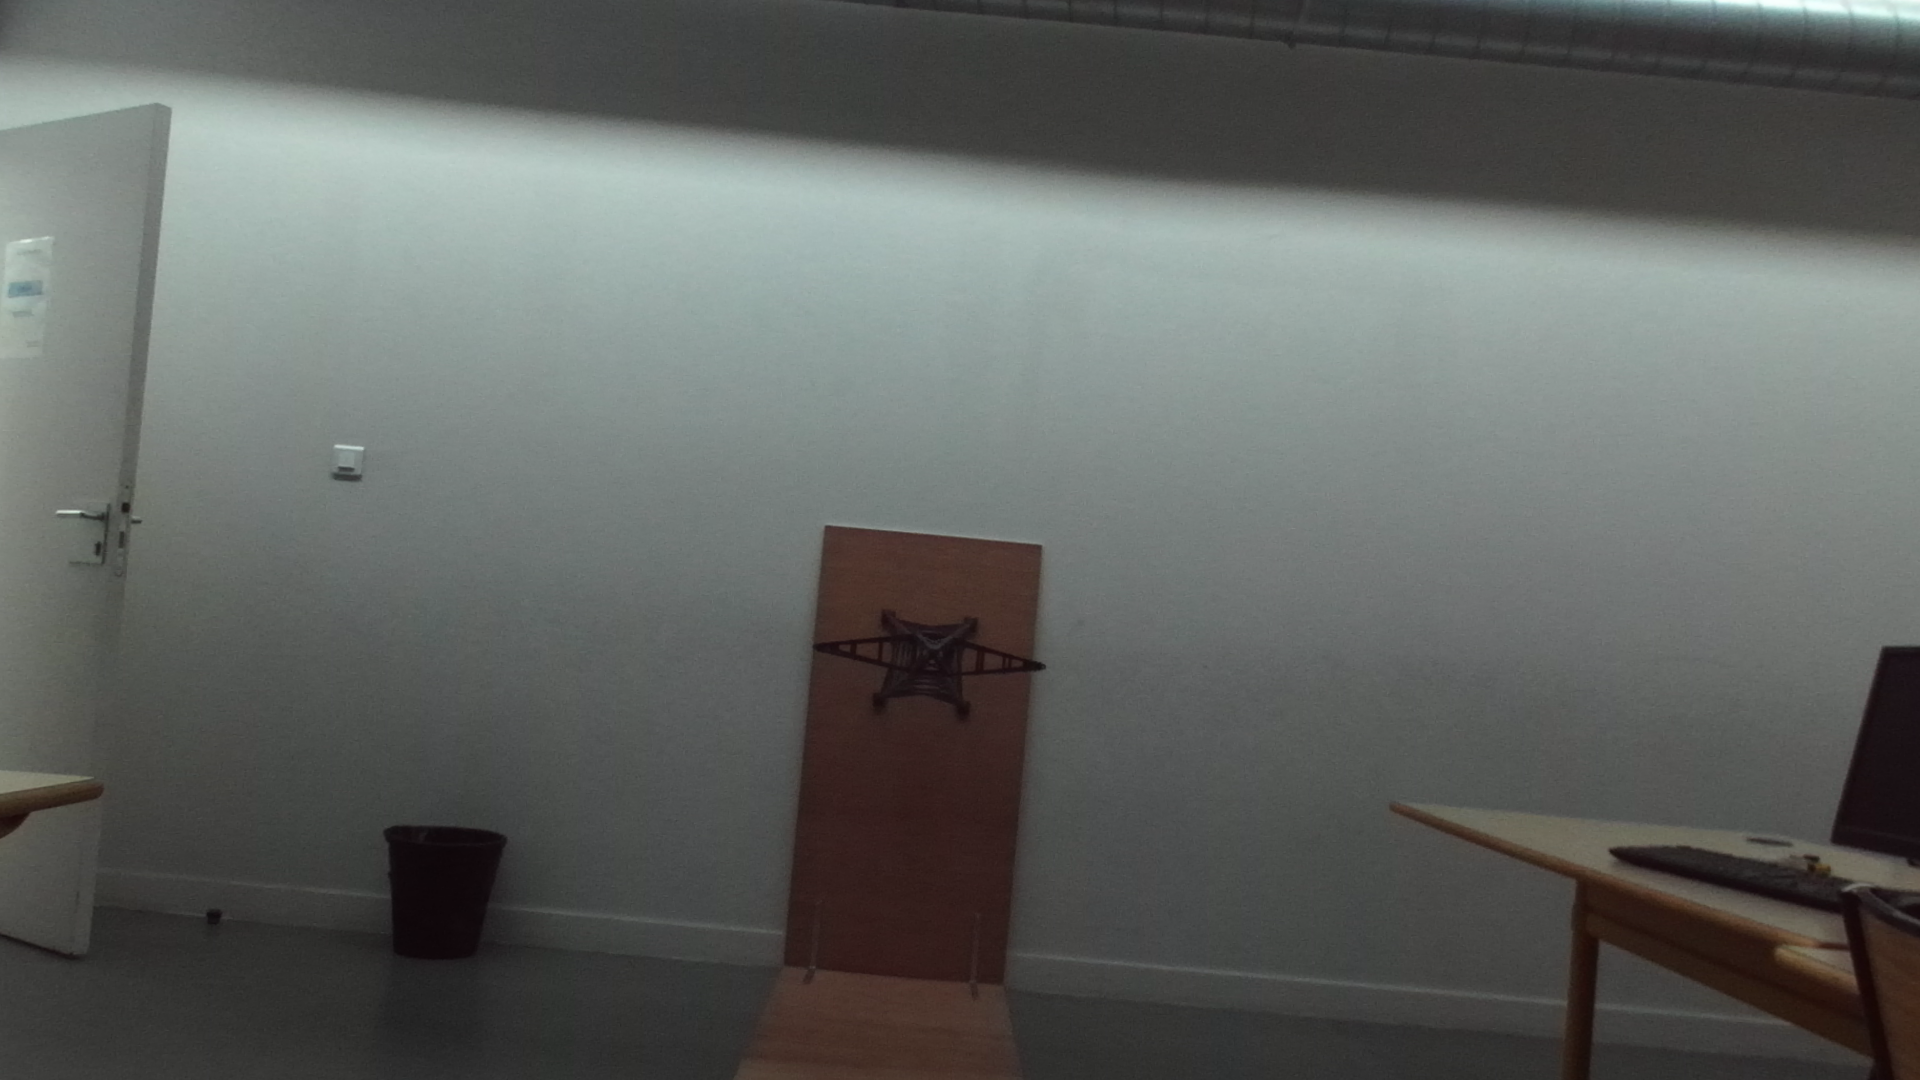pylon_phy: (808, 630, 1048, 678)
